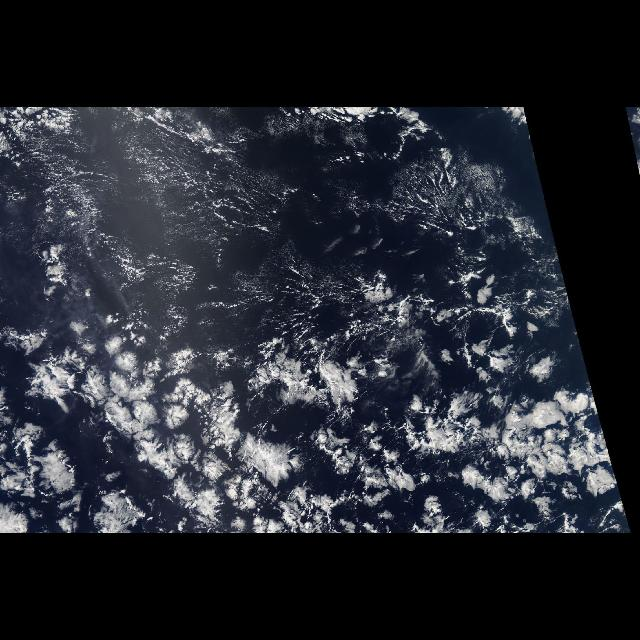Flower: (0, 313, 614, 533)
Sugar: (42, 148, 310, 270)
